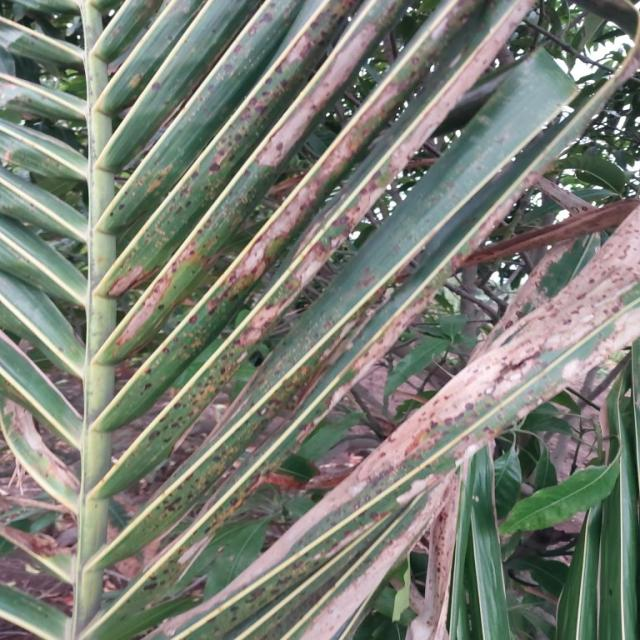gray leaf spot: (152, 210, 640, 640)
